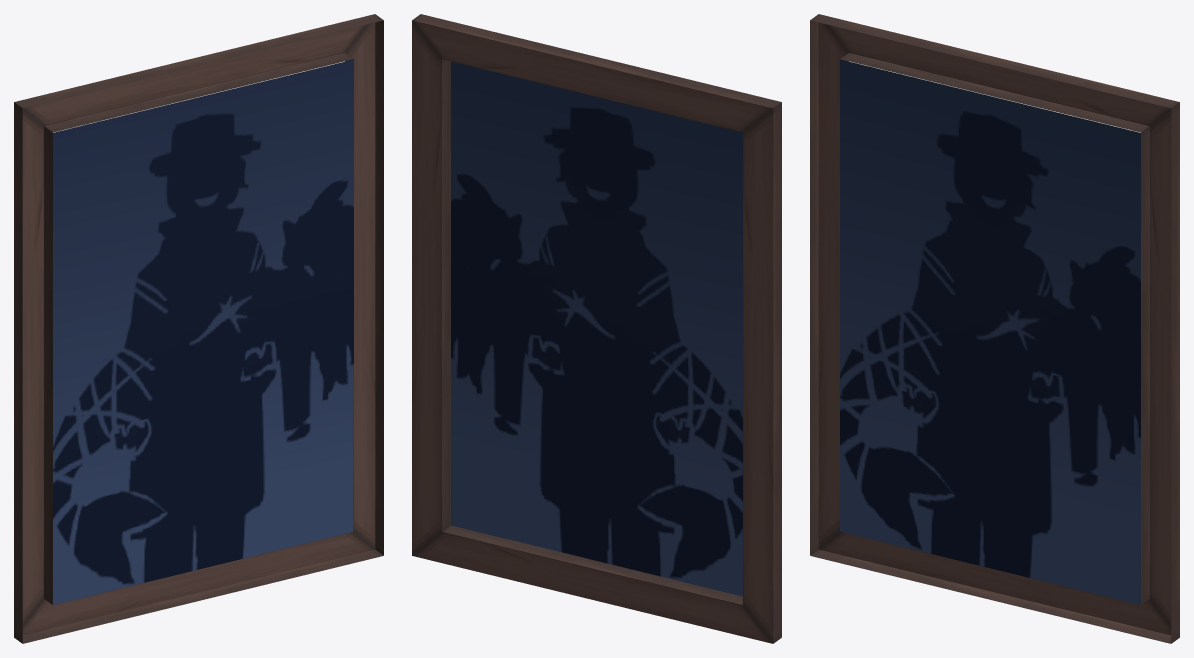
The model's file is big_painting_2.fbx.
3 renders of one model, left to right at view 1: azimuth 30°, elevation 25°; view 2: azimuth 150°, elevation 25°; view 3: azimuth 330°, elevation 25°, orthographic.
Parts seen in each view (by area): view 1: big_painting_2; view 2: big_painting_2; view 3: big_painting_2.
Part boxes in pixels (x1,y1,x2,y2): big_painting_2: (14,14,383,643); big_painting_2: (412,14,781,643); big_painting_2: (810,14,1179,643).
Bounding box in the file's own units: 2.4 × 0.1 × 3.4.
